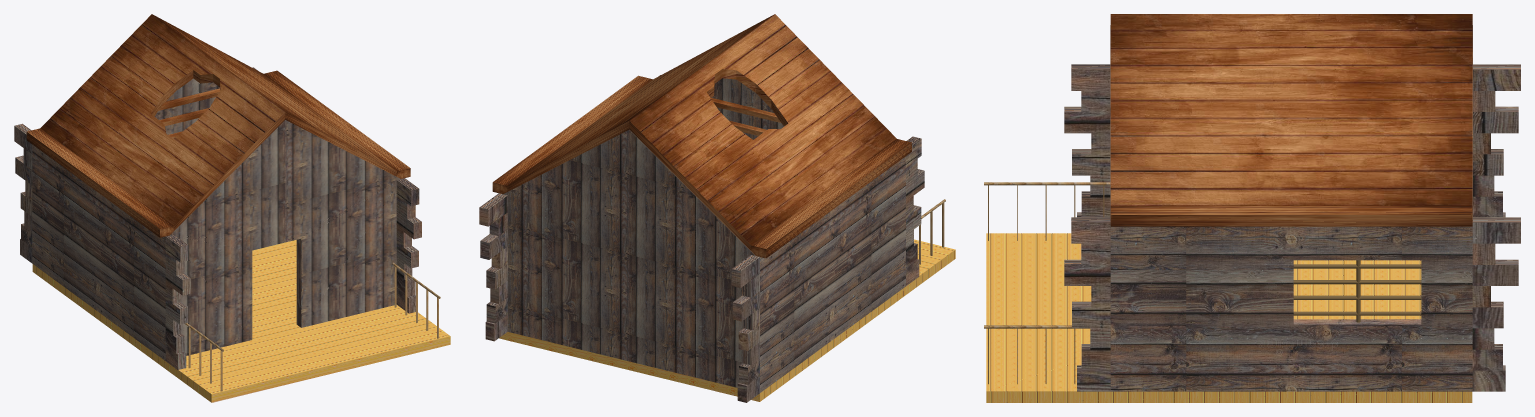
File: Cabana.fbx
3 renders of one model, left to right at view 1: azimuth 30°, elevation 25°; view 2: azimuth 150°, elevation 25°; view 3: azimuth 270°, elevation 25°, orthographic. The views are drawn at different scales.
Parts seen in each view (by area): view 1: Cabana_Piso.001, Cabana_Parede.003, Cabana_Parede.002, Cube.002, Cabana_Parede.001, Cabana_Parede.000, Cube.001, Corrimao.003, Corrimao.002; view 2: Cabana_Parede.000, Cabana_Piso.001, Cabana_Parede.002, Cube.002, Cabana_Parede.001, Cabana_Parede.003, Cube.001, Corrimao.002; view 3: Cabana_Piso.001, Cabana_Parede.001, Cube.002, Cabana_Parede.002, Circle, Corrimao.002, Corrimao.003.
Part boxes in pixels (x1,y1,x2,y2): Cabana_Piso.001: (26,14,410,237); Cabana_Parede.003: (170,120,400,355); Cabana_Parede.002: (14,123,190,369); Cube.002: (32,240,450,402); Cabana_Parede.001: (252,67,421,313); Cabana_Parede.000: (154,78,219,134); Cube.001: (158,88,220,138); Corrimao.003: (392,262,440,338); Corrimao.002: (184,323,223,391); Cabana_Parede.000: (503,129,755,387); Cabana_Piso.001: (492,14,911,258); Cabana_Parede.002: (731,136,924,402); Cube.002: (499,239,955,401); Cabana_Parede.001: (479,75,660,341); Cabana_Parede.003: (712,78,783,139); Cube.001: (711,98,780,135); Corrimao.002: (919,199,945,264); Cabana_Piso.001: (1110,14,1472,226); Cabana_Parede.001: (1064,217,1520,391); Cube.002: (986,233,1472,402); Cabana_Parede.002: (1064,64,1520,217); Circle: (1293,260,1421,322); Corrimao.002: (984,182,1110,240); Corrimao.003: (984,325,1089,384).
Bounding box in the file's own units: 614 × 536 × 841.
